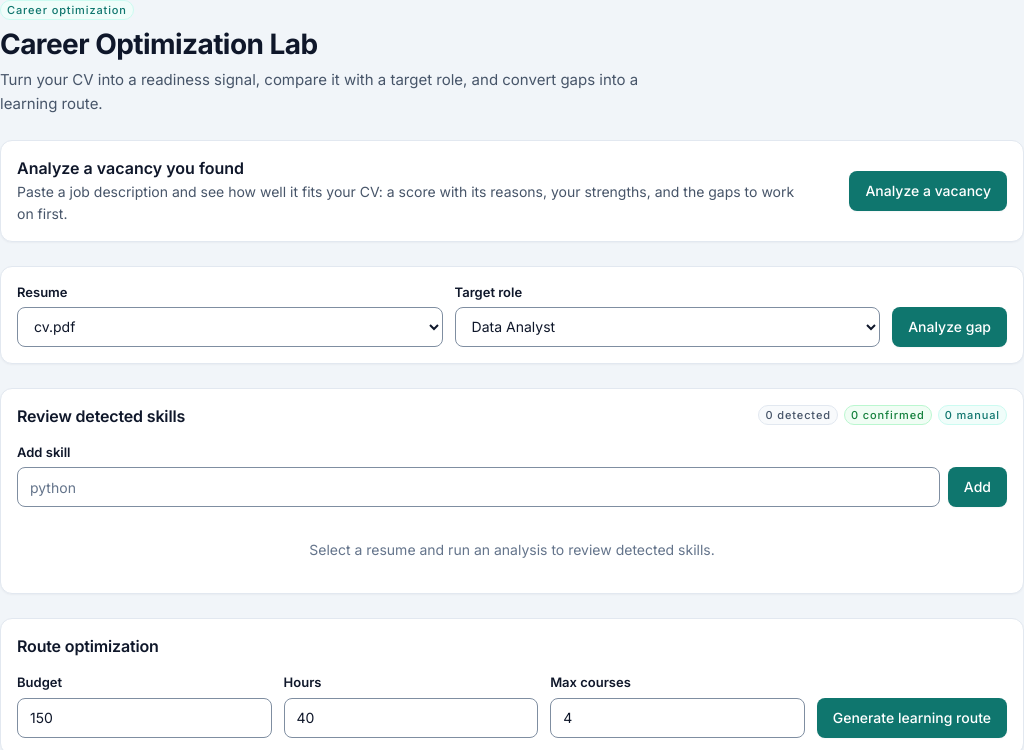
Test case: CareerLabPage › runs a gap analysis: syncs skills, then shows the readiness metrics
Step 1. Click the button "Analyze gap" → (950, 327), box [892,307,1007,347]
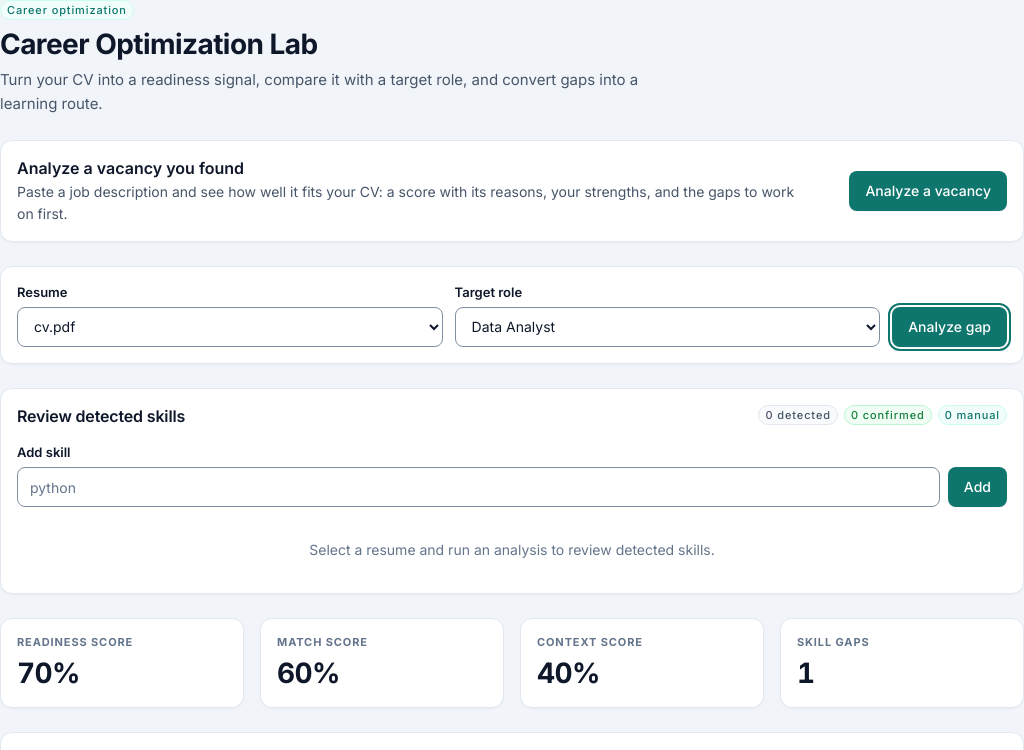
Result: the text "70%" is shown at [17,656,80,690]
